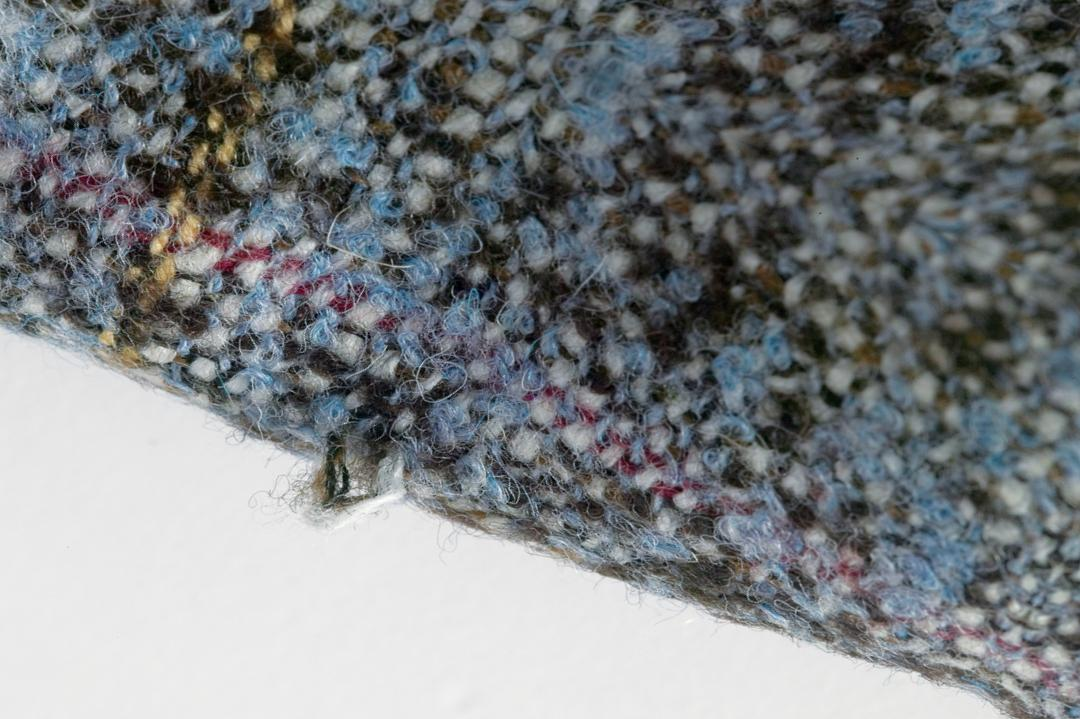snag: (273, 421, 415, 540)
